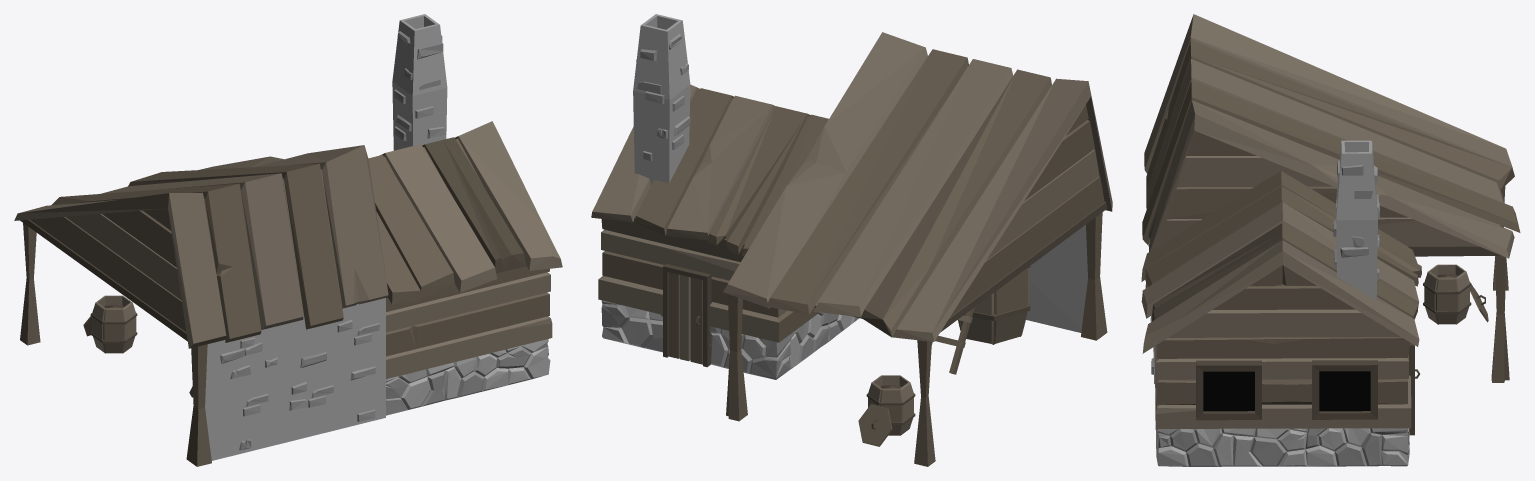
Rendered from brewery.fbx.
The picture shows the model from 3 angles, left to right: view 1: azimuth 30°, elevation 25°; view 2: azimuth 150°, elevation 25°; view 3: azimuth 270°, elevation 25°; orthographic projection. The views are drawn at different scales.
Visible parts, largest first — view 1: brewery1; view 2: brewery1; view 3: brewery1.
Part boxes in pixels (left/top/right/bottom): brewery1: left=14, top=14, right=562, bottom=466; brewery1: left=591, top=14, right=1112, bottom=466; brewery1: left=1141, top=14, right=1520, bottom=466.
Size of the model in its own units: 912 by 681 by 766.
